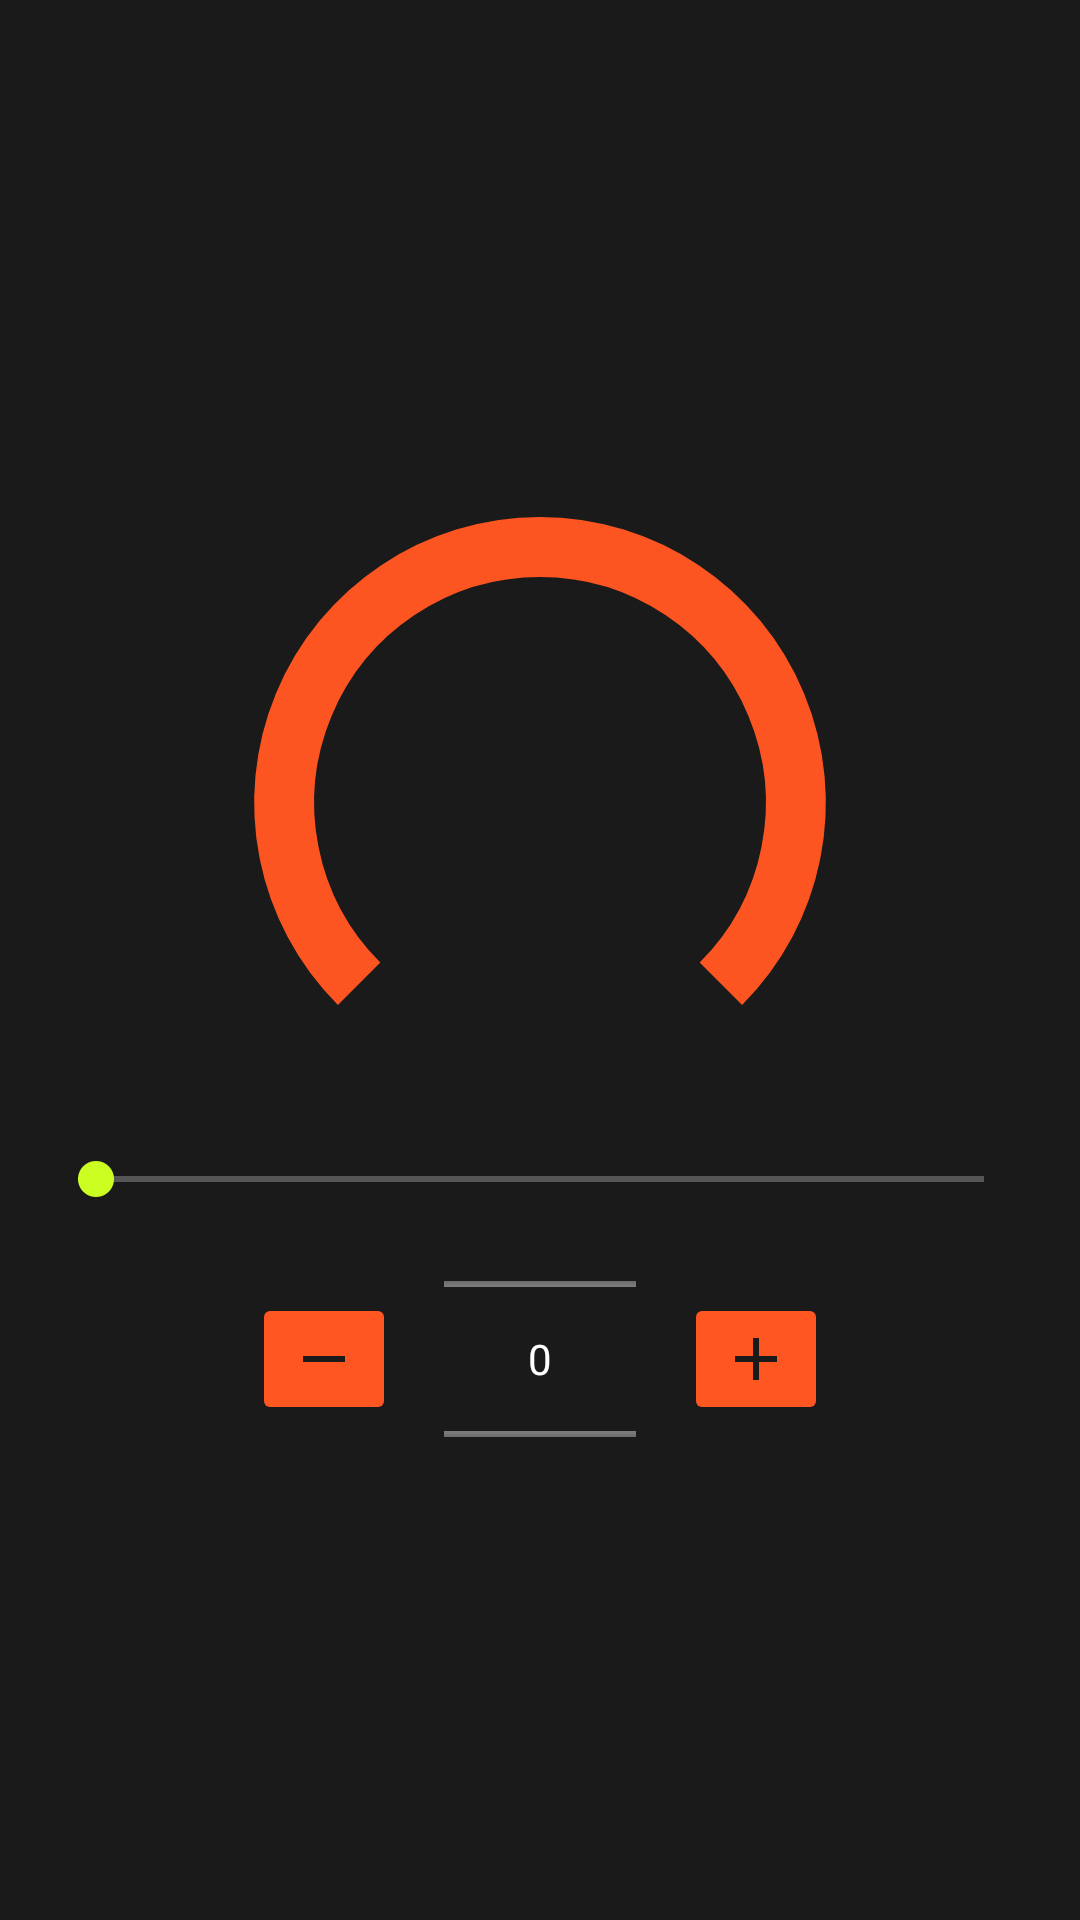

Icons on this 1080 × 1920 Android screen, each with its box as {"x1": x1, "y1": y1, "x2": x2, "y2": y2}:
add: {"x1": 696, "y1": 1311, "x2": 816, "y2": 1407}
remove: {"x1": 264, "y1": 1311, "x2": 384, "y2": 1407}
